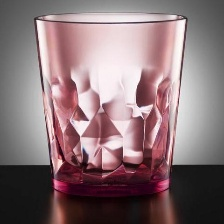glass: (26, 3, 191, 201)
